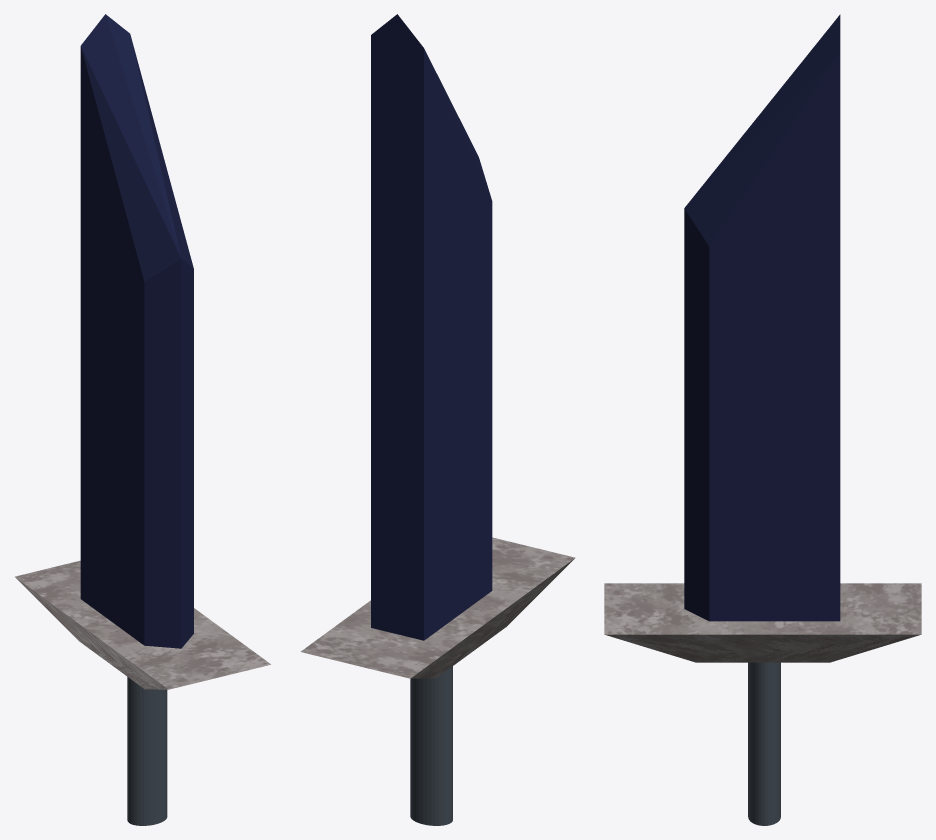
The model's file is weapon.obj.
The picture shows the model from 3 angles, left to right: view 1: azimuth 30°, elevation 25°; view 2: azimuth 150°, elevation 25°; view 3: azimuth 270°, elevation 25°; orthographic projection. The views are drawn at different scales.
Visible parts, largest first — view 1: 円柱.001; view 2: 円柱.001; view 3: 円柱.001.
Part boxes in pixels (box(x1,y1,x2,y2)): 円柱.001: box(15, 14, 270, 825); 円柱.001: box(300, 14, 575, 825); 円柱.001: box(604, 14, 921, 825).
Bounding box in the file's own units: 0.622 × 4.51 × 1.62.
Materials: 1 (1 with a texture image).
